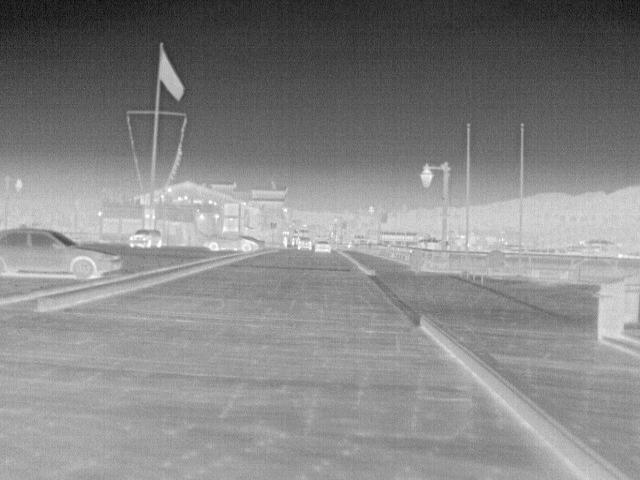car: (1, 227, 124, 285), (198, 233, 260, 255), (126, 230, 162, 249), (296, 236, 314, 252), (313, 239, 332, 253)
person: (281, 234, 289, 248)
